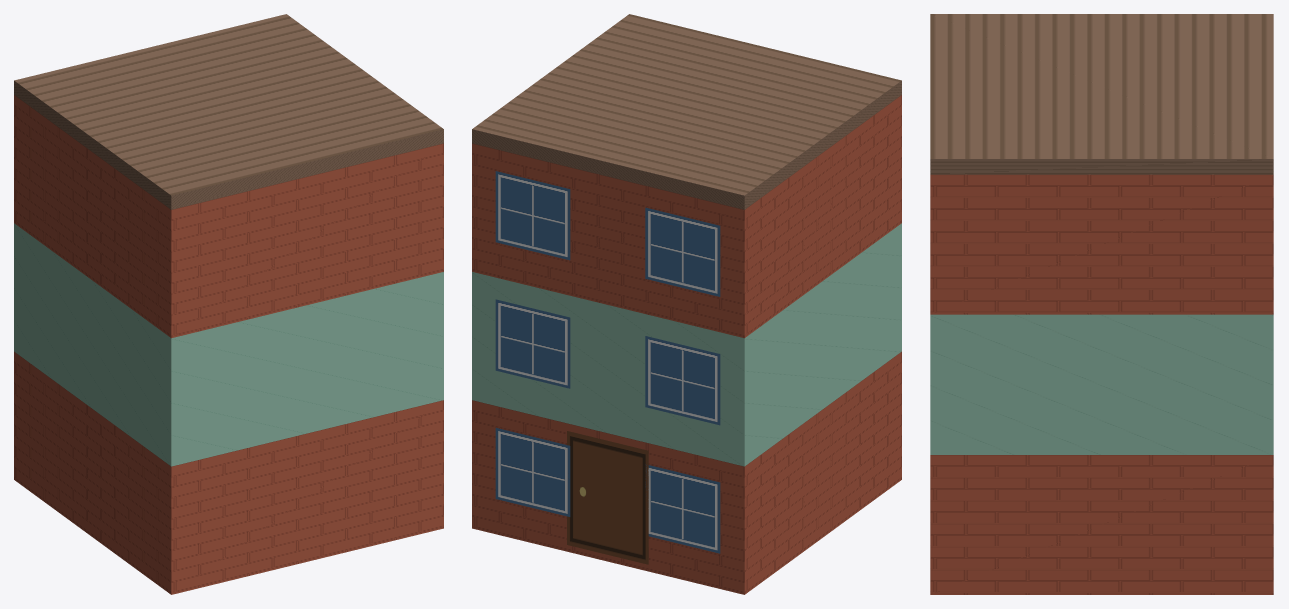
The model's file is casa_lima_4x4_v3.glb.
The picture shows the model from 3 angles, left to right: view 1: azimuth 30°, elevation 25°; view 2: azimuth 150°, elevation 25°; view 3: azimuth 270°, elevation 25°; orthographic projection. The views are drawn at different scales.
Size of the model in its own units: 4 by 5.6 by 4.01.
Materials: 5 (5 with a texture image).
